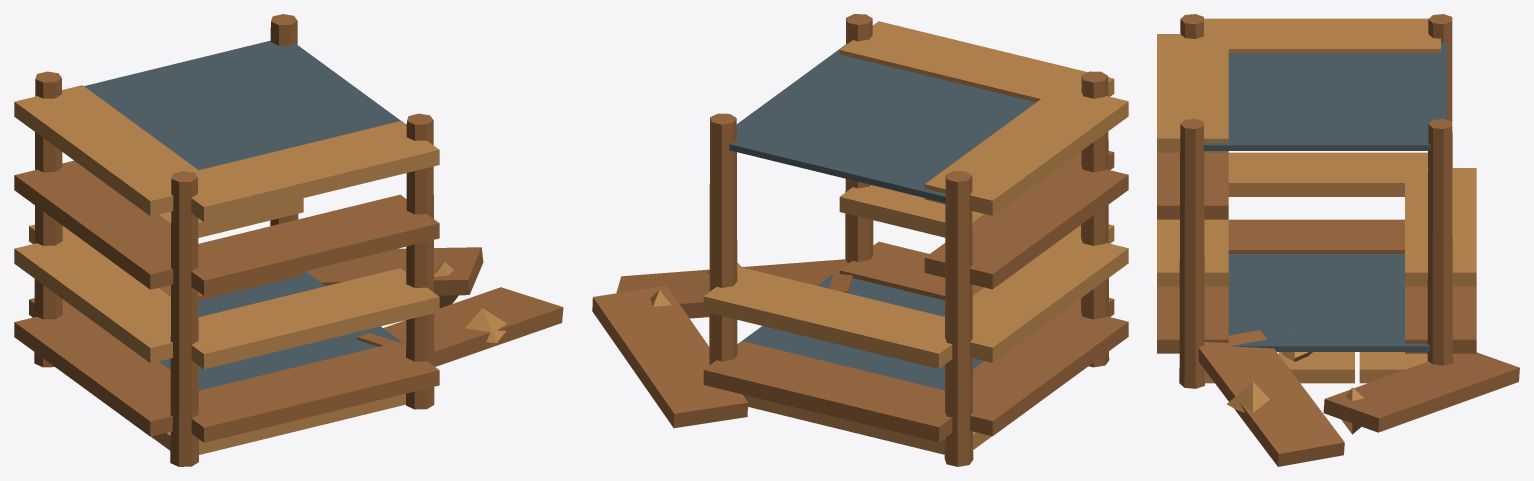
The model's file is crate_broken.glb.
3 views of the same model, side by side, from view 1: azimuth 30°, elevation 25°; view 2: azimuth 150°, elevation 25°; view 3: azimuth 270°, elevation 25° (orthographic). The views are drawn at different scales.
Parts seen in each view (by area): view 1: crate_broken.001; view 2: crate_broken.001; view 3: crate_broken.001.
Part boxes in pixels (x1,y1,x2,y2): crate_broken.001: [14, 14, 563, 466]; crate_broken.001: [592, 14, 1128, 466]; crate_broken.001: [1157, 14, 1519, 466].
Bounding box in the file's own units: 0.9902 × 0.5877 × 0.7415.
